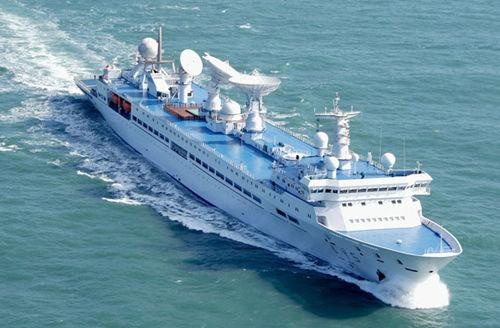warship: (74, 21, 466, 281)
